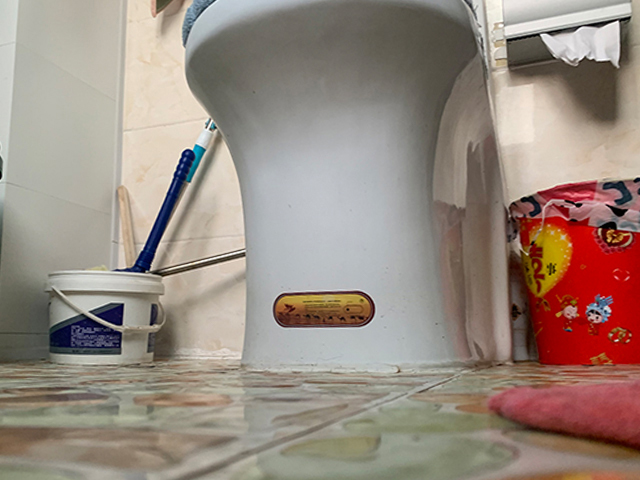closestool: (179, 1, 511, 374)
trashcan: (508, 177, 640, 366)
